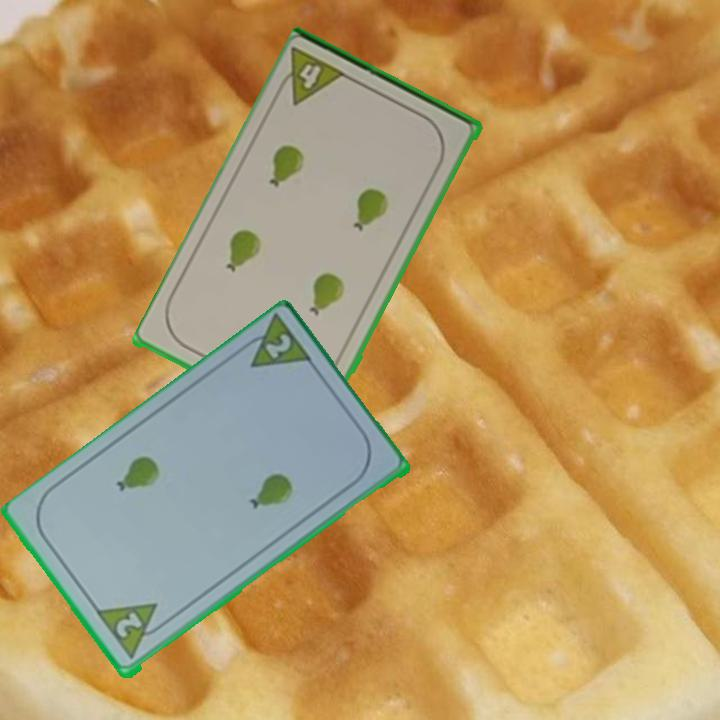2p: (94, 599, 172, 664), (261, 330, 295, 363)
4p: (271, 44, 351, 110)
